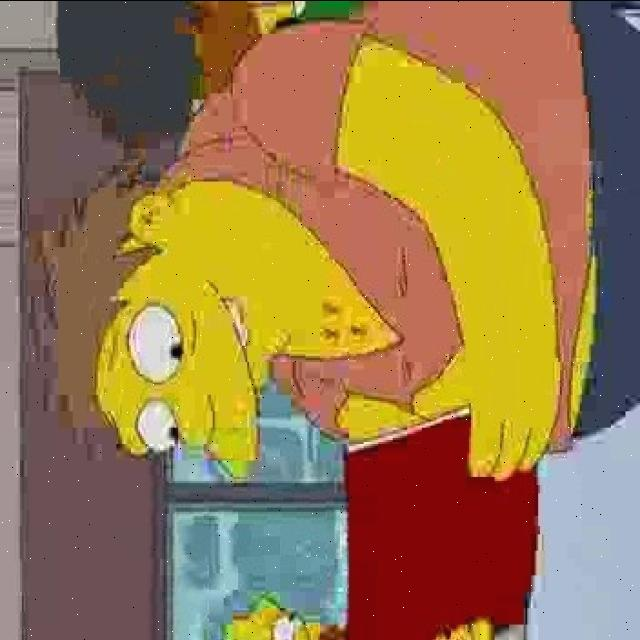Barney Gumble: (29, 167, 327, 469)
